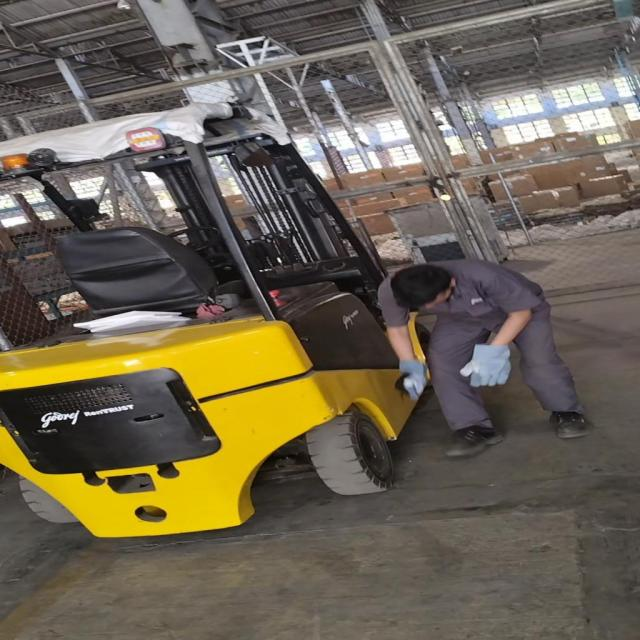Gloves-Detection: (458, 342, 514, 392), (388, 362, 428, 404)
